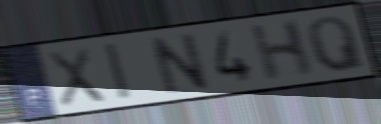4: (215, 28, 255, 84)
H: (248, 16, 316, 84)
I: (101, 40, 135, 103)
N: (146, 30, 213, 97)
Q: (305, 14, 369, 74)
X: (44, 45, 109, 110)
